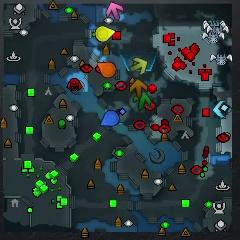p1: (102, 111, 120, 127)
p4: (96, 26, 116, 42)
p5: (97, 61, 117, 78)
x1: (106, 2, 124, 20)
x2: (130, 57, 148, 75)
x3: (213, 101, 232, 118)
x4: (133, 92, 151, 110)
x5: (130, 79, 147, 97)
